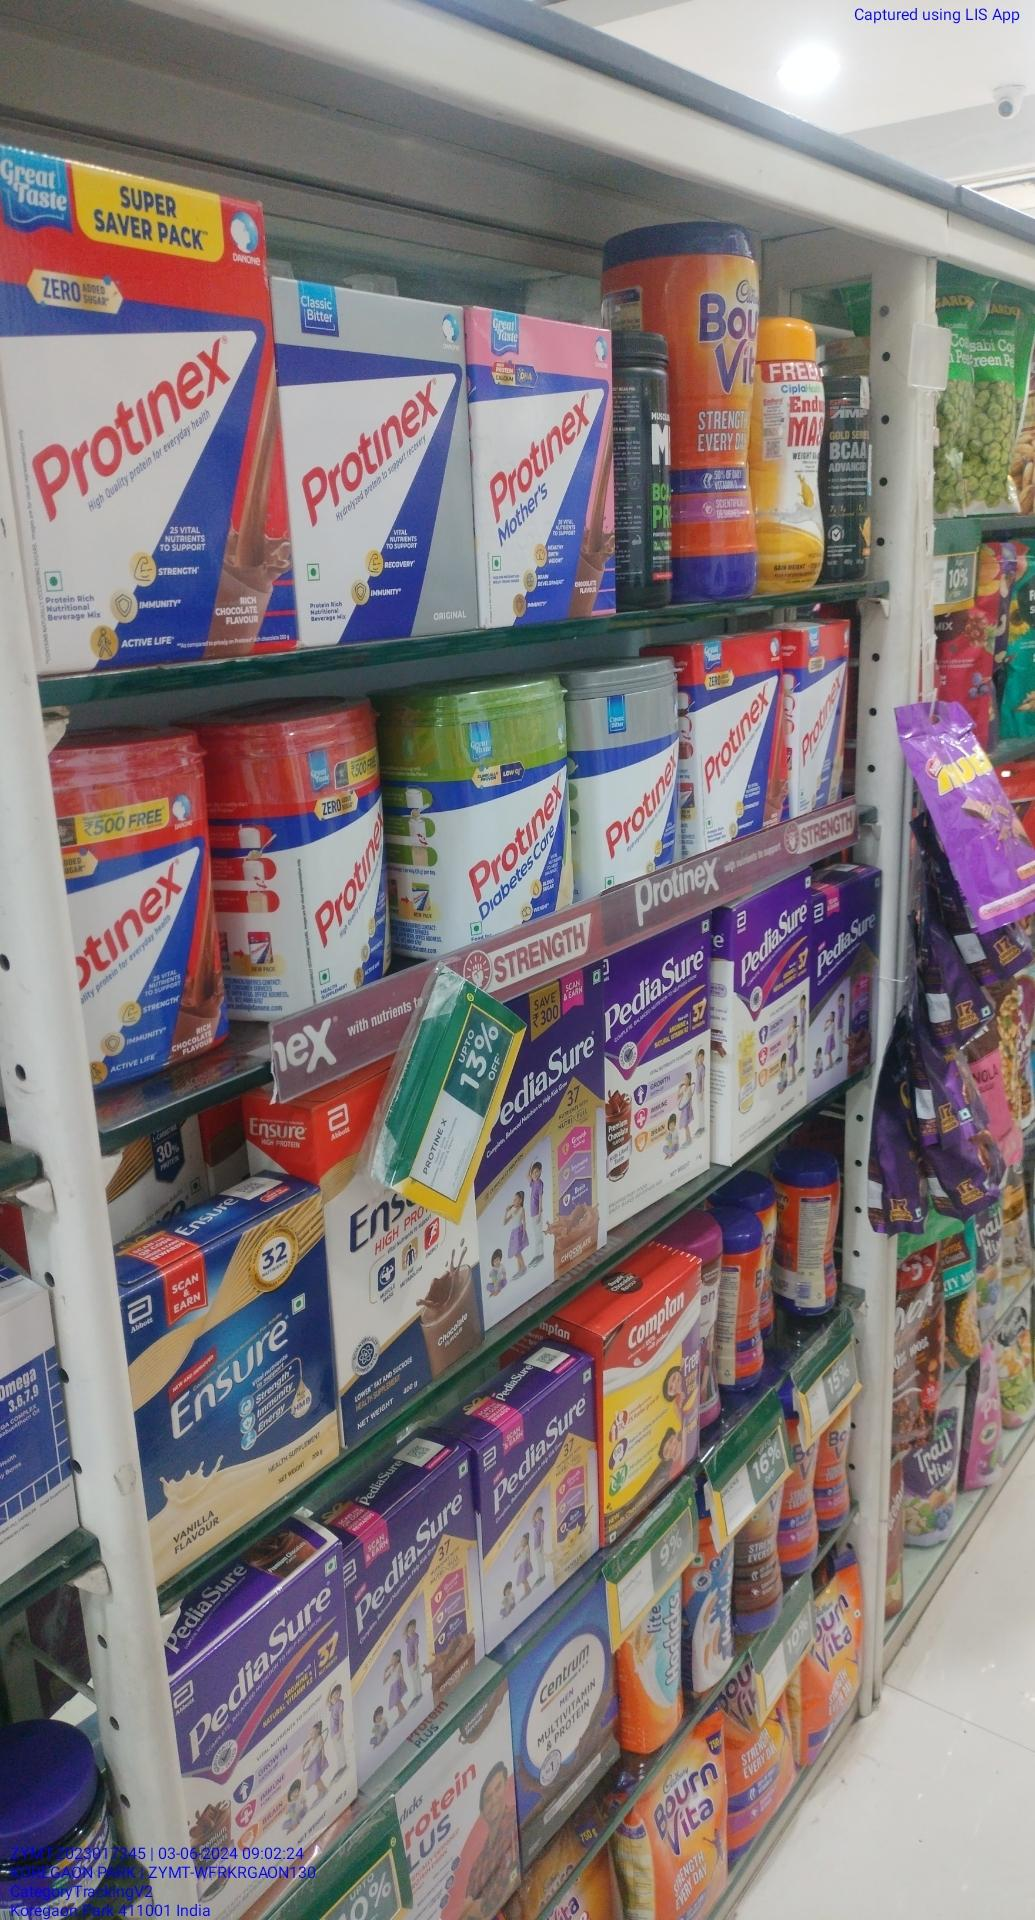PROTINEX_CHOCOLATE_400_G_JAR: (42, 747, 217, 1082)
PROTINEX_ORIGINAL_400_G_JAR: (586, 655, 681, 896)
PROTINEX_VANILLA_400_G_JAR: (255, 708, 396, 1014)
